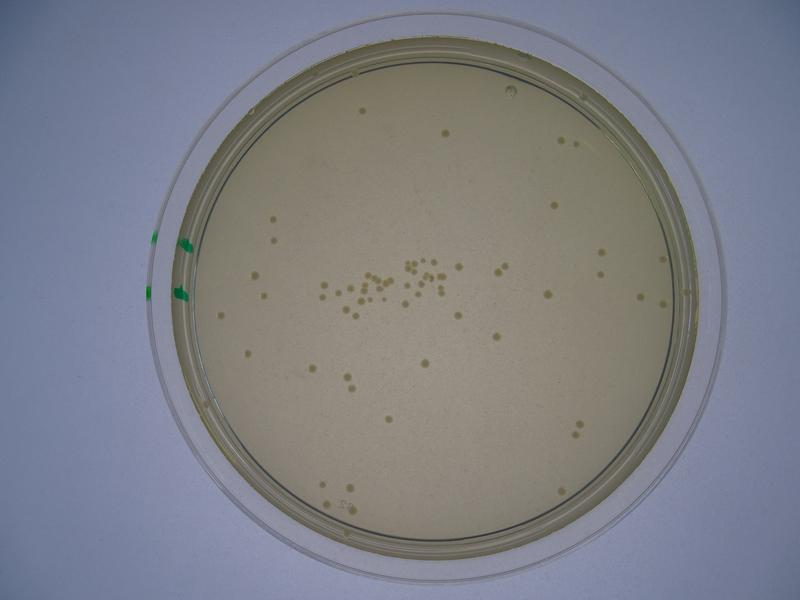colony: (594, 243, 609, 259), (541, 287, 555, 303), (248, 269, 262, 284), (383, 413, 398, 427), (306, 359, 318, 376), (417, 356, 431, 370), (633, 292, 647, 305), (240, 346, 253, 359), (555, 483, 567, 497), (316, 478, 328, 492), (438, 127, 451, 139), (268, 234, 280, 247), (356, 102, 366, 117), (449, 309, 462, 319), (267, 213, 278, 224), (556, 133, 566, 145), (216, 309, 226, 321), (344, 480, 354, 492), (548, 200, 560, 209), (491, 329, 500, 340), (453, 263, 464, 272)
